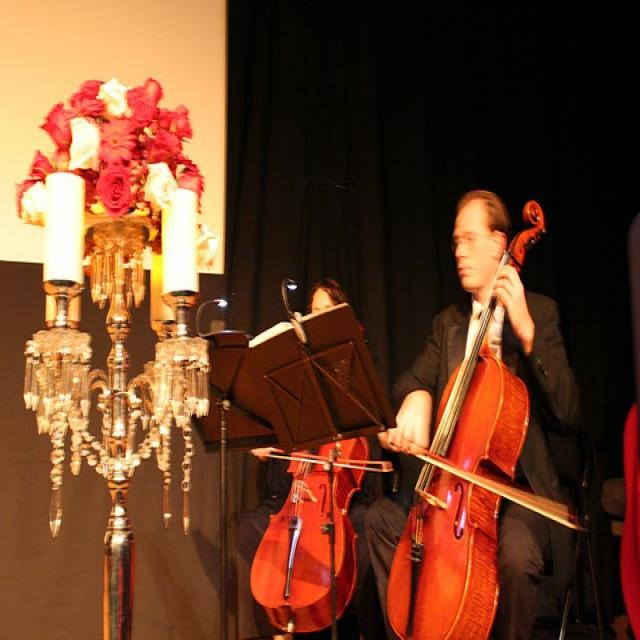cello: (385, 200, 550, 638), (248, 307, 373, 636)
